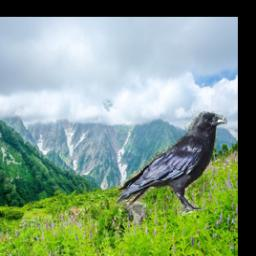Crow: (115, 107, 228, 216)
